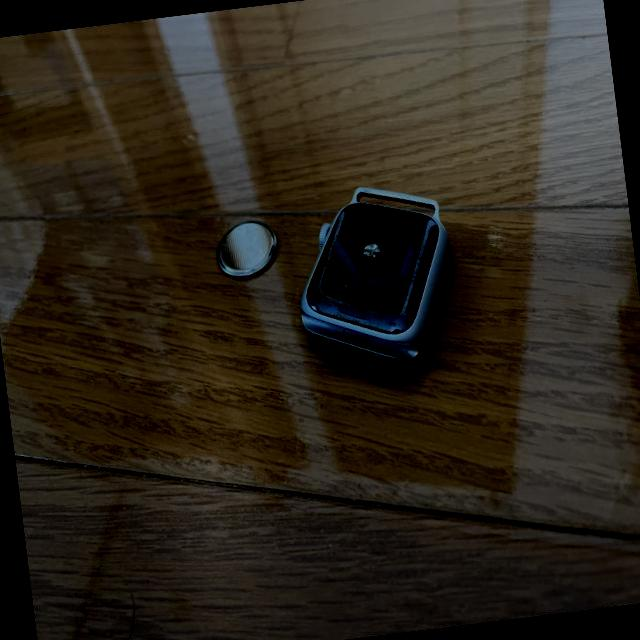COIN: (214, 218, 282, 280)
